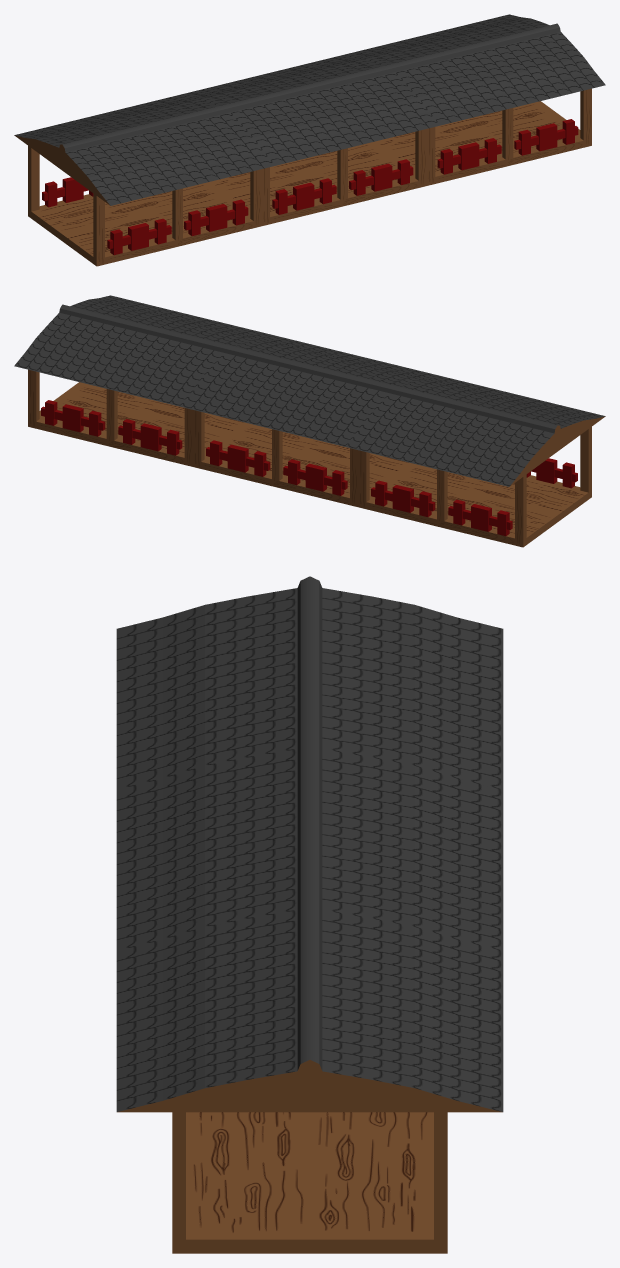
File: bridge.fbx
The picture shows the model from 3 angles, top to bottom: view 1: azimuth 30°, elevation 25°; view 2: azimuth 150°, elevation 25°; view 3: azimuth 270°, elevation 25°; orthographic projection. The views are drawn at different scales.
Parts seen in each view (by area): view 1: pCube3, pasted__pasted__pCube4, pasted__pCube4; view 2: pCube3, pasted__pasted__pCube4, pasted__pCube4; view 3: pasted__pasted__pCube4, pCube3, pasted__pCube4.
Part boxes in pixels (<box>): pCube3: <box>14,95,275,266</box>; pasted__pasted__pCube4: <box>345,14,605,185</box>; pasted__pCube4: <box>180,54,440,225</box>; pCube3: <box>344,376,605,547</box>; pasted__pasted__pCube4: <box>14,295,274,466</box>; pasted__pCube4: <box>179,335,439,506</box>; pasted__pasted__pCube4: <box>116,898,503,1253</box>; pCube3: <box>116,576,503,789</box>; pasted__pCube4: <box>116,737,503,950</box>.
Size of the model in its own units: 3615 by 677 by 1223.
